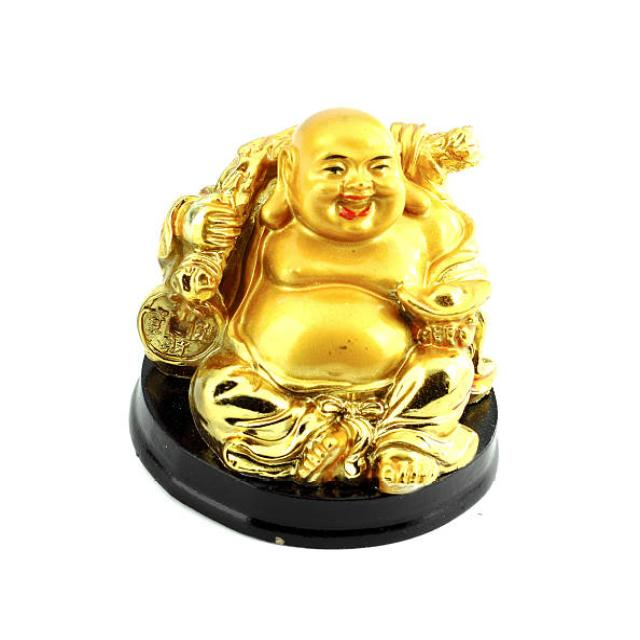Smiling Buddha: (166, 105, 479, 472)
